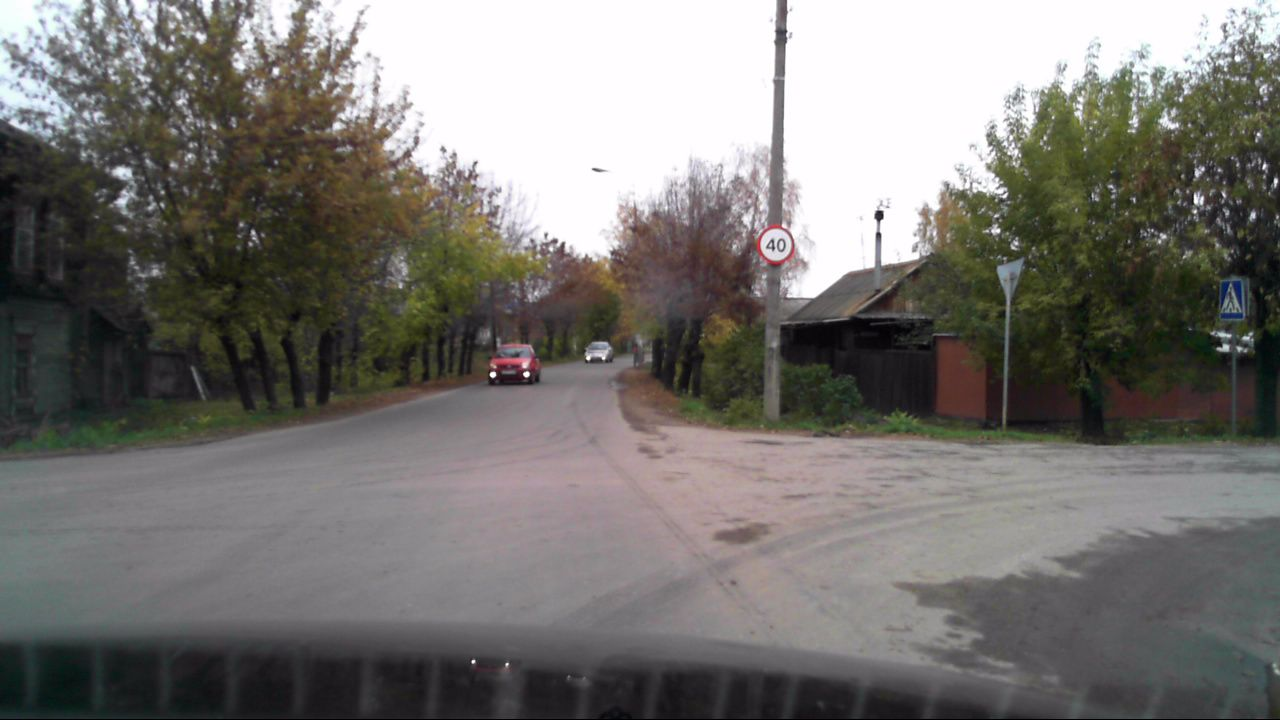speed_warning_40: (757, 226, 797, 264)
